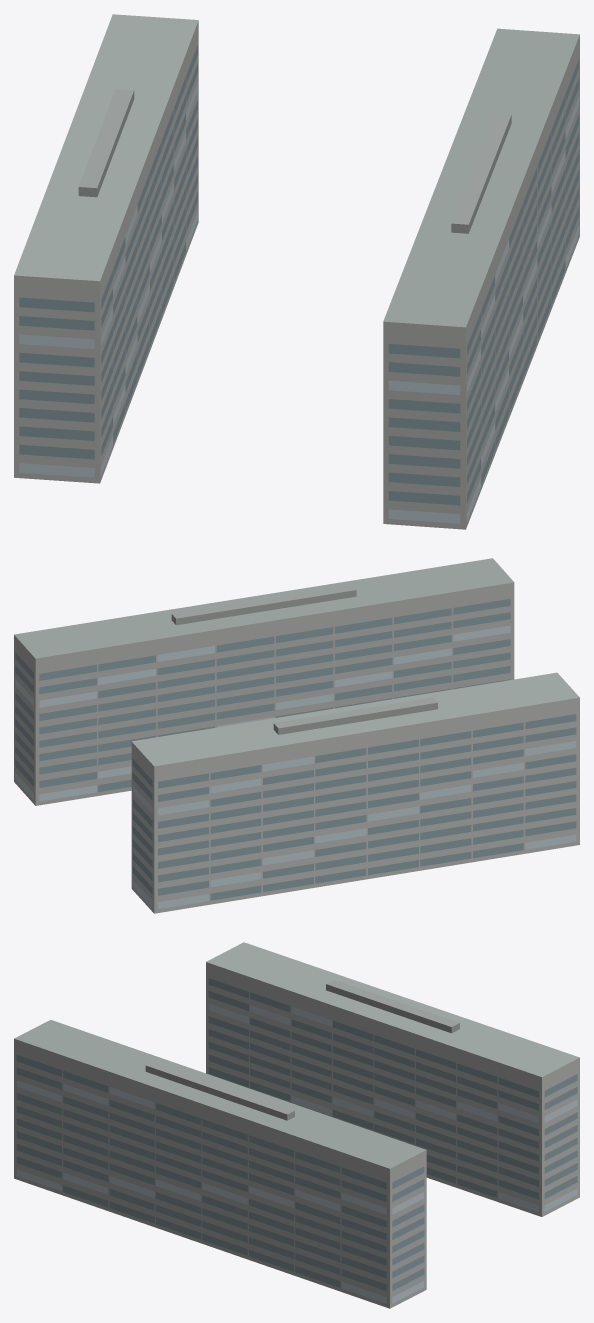
The model's file is apt-a13790709.glb.
The picture shows the model from 3 angles, top to bottom: view 1: azimuth 30°, elevation 25°; view 2: azimuth 150°, elevation 25°; view 3: azimuth 270°, elevation 25°; orthographic projection. The views are drawn at different scales.
Visible parts, largest first — view 1: apt-a13790709; view 2: apt-a13790709; view 3: apt-a13790709.
Boxes of the visible parts, x1,y1,x2,y2 form: apt-a13790709: [14, 14, 579, 529]; apt-a13790709: [14, 558, 579, 913]; apt-a13790709: [14, 942, 579, 1308].
Bounding box in the file's own units: 117 × 35.06 × 123.
